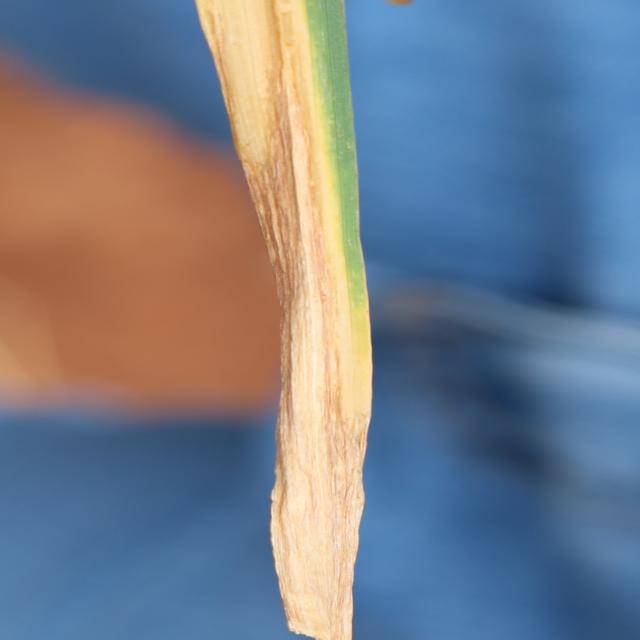Septoria: (194, 1, 375, 638)
